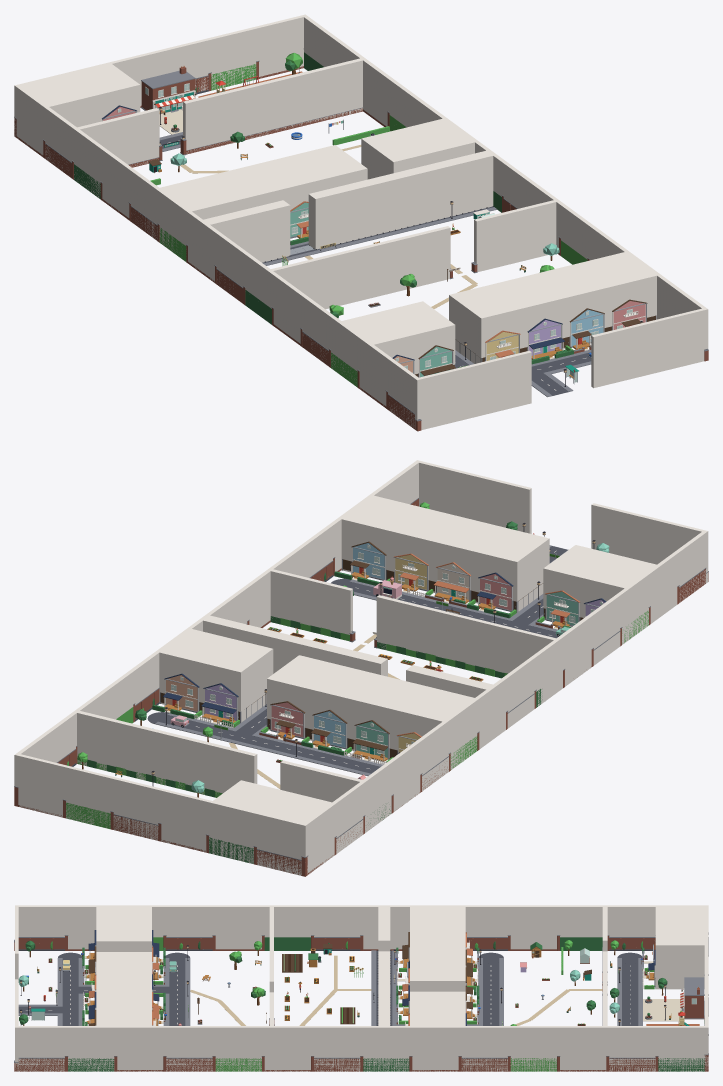
Rendered from CatCafe_Neighbourhood_SetF85.glb.
3 views of the same model, one above another, from view 1: azimuth 30°, elevation 25°; view 2: azimuth 150°, elevation 25°; view 3: azimuth 270°, elevation 25° (orthographic). The views are drawn at different scales.
Parts seen in each view (by area): view 1: CatCafe_Neighbourhood_SetF85_073_Walls_Barrier, CatCafe_Neighbourhood_SetF85_364_Blocks_Barrier, CatCafe_Neighbourhood_SetF85_275_Works_Barrier, CatCafe_Neighbourhood_SetF85_247_GreenFence_Barrier, CatCafe_Neighbourhood_SetF85_307_GardenWall_Barrier, CatCafe_Neighbourhood_SetF85, CatCafe_Neighbourhood_SetF85_311_CornerShop, CatCafe_Neighbourhood_SetF85_081_HouseFrontB, CatCafe_Neighbourhood_SetF85_307_GardenWall, CatCafe_Neighbourhood_SetF85_077_HouseFrontA, CatCafe_Neighbourhood_SetF85_097_HouseFrontB, CatCafe_Neighbourhood_SetF85_074_HouseFrontC (+2 smaller); view 2: CatCafe_Neighbourhood_SetF85_073_Walls_Barrier, CatCafe_Neighbourhood_SetF85_364_Blocks_Barrier, CatCafe_Neighbourhood_SetF85_247_GreenFence_Barrier, CatCafe_Neighbourhood_SetF85_307_GardenWall_Barrier, CatCafe_Neighbourhood_SetF85, CatCafe_Neighbourhood_SetF85_275_Works_Barrier, CatCafe_Neighbourhood_SetF85_247_GreenFence, CatCafe_Neighbourhood_SetF85_198_HouseFrontB, CatCafe_Neighbourhood_SetF85_183_HouseFrontB, CatCafe_Neighbourhood_SetF85_114_HouseFrontB, CatCafe_Neighbourhood_SetF85_111_HouseFrontC, CatCafe_Neighbourhood_SetF85_118_HouseFrontA (+10 smaller); view 3: CatCafe_Neighbourhood_SetF85_073_Walls_Barrier, CatCafe_Neighbourhood_SetF85_364_Blocks_Barrier, CatCafe_Neighbourhood_SetF85, CatCafe_Neighbourhood_SetF85_275_Works_Barrier, CatCafe_Neighbourhood_SetF85_311_CornerShop, CatCafe_Neighbourhood_SetF85_307_GardenWall_Barrier, CatCafe_Neighbourhood_SetF85_058_WallBrick, CatCafe_Neighbourhood_SetF85_046_WallBrick, CatCafe_Neighbourhood_SetF85_064_WallBrick, CatCafe_Neighbourhood_SetF85_052_WallBrick, CatCafe_Neighbourhood_SetF85_363_Trees, CatCafe_Neighbourhood_SetF85_040_WallBrick (+14 smaller).
Boxes of the visible parts, x1,y1,x2,y2 form: CatCafe_Neighbourhood_SetF85_073_Walls_Barrier: (14, 14, 708, 430); CatCafe_Neighbourhood_SetF85_364_Blocks_Barrier: (21, 64, 656, 374); CatCafe_Neighbourhood_SetF85_275_Works_Barrier: (203, 150, 493, 262); CatCafe_Neighbourhood_SetF85_247_GreenFence_Barrier: (271, 200, 556, 309); CatCafe_Neighbourhood_SetF85_307_GardenWall_Barrier: (77, 58, 362, 167); CatCafe_Neighbourhood_SetF85: (159, 71, 591, 397); CatCafe_Neighbourhood_SetF85_311_CornerShop: (141, 66, 196, 114); CatCafe_Neighbourhood_SetF85_081_HouseFrontB: (527, 318, 564, 359); CatCafe_Neighbourhood_SetF85_307_GardenWall: (128, 107, 363, 167); CatCafe_Neighbourhood_SetF85_077_HouseFrontA: (569, 308, 604, 349); CatCafe_Neighbourhood_SetF85_097_HouseFrontB: (418, 345, 455, 377); CatCafe_Neighbourhood_SetF85_074_HouseFrontC: (612, 299, 647, 330); CatCafe_Neighbourhood_SetF85_073_Walls_Barrier: (14, 460, 708, 875); CatCafe_Neighbourhood_SetF85_364_Blocks_Barrier: (159, 495, 656, 823); CatCafe_Neighbourhood_SetF85_247_GreenFence_Barrier: (270, 569, 555, 673); CatCafe_Neighbourhood_SetF85_307_GardenWall_Barrier: (77, 711, 362, 802); CatCafe_Neighbourhood_SetF85: (147, 545, 568, 788); CatCafe_Neighbourhood_SetF85_275_Works_Barrier: (203, 615, 492, 697); CatCafe_Neighbourhood_SetF85_247_GreenFence: (270, 616, 507, 678); CatCafe_Neighbourhood_SetF85_198_HouseFrontB: (352, 720, 389, 761); CatCafe_Neighbourhood_SetF85_183_HouseFrontB: (201, 683, 238, 723); CatCafe_Neighbourhood_SetF85_114_HouseFrontB: (434, 562, 470, 603); CatCafe_Neighbourhood_SetF85_111_HouseFrontC: (393, 553, 428, 591); CatCafe_Neighbourhood_SetF85_118_HouseFrontA: (477, 572, 513, 611); CatCafe_Neighbourhood_SetF85_073_Walls_Barrier: (15, 905, 708, 1071); CatCafe_Neighbourhood_SetF85_364_Blocks_Barrier: (96, 907, 704, 1025); CatCafe_Neighbourhood_SetF85: (18, 950, 699, 1025); CatCafe_Neighbourhood_SetF85_275_Works_Barrier: (378, 907, 390, 1025); CatCafe_Neighbourhood_SetF85_311_CornerShop: (680, 977, 704, 1019); CatCafe_Neighbourhood_SetF85_307_GardenWall_Barrier: (602, 907, 607, 1025); CatCafe_Neighbourhood_SetF85_058_WallBrick: (166, 1057, 212, 1071); CatCafe_Neighbourhood_SetF85_046_WallBrick: (461, 1057, 507, 1071); CatCafe_Neighbourhood_SetF85_064_WallBrick: (18, 1057, 64, 1071); CatCafe_Neighbourhood_SetF85_052_WallBrick: (314, 1057, 360, 1071); CatCafe_Neighbourhood_SetF85_363_Trees: (18, 940, 595, 1025); CatCafe_Neighbourhood_SetF85_040_WallBrick: (609, 1057, 655, 1071).
Size of the model in its own units: 180 by 30.08 by 430.
Materials: 1 (1 with a texture image).
